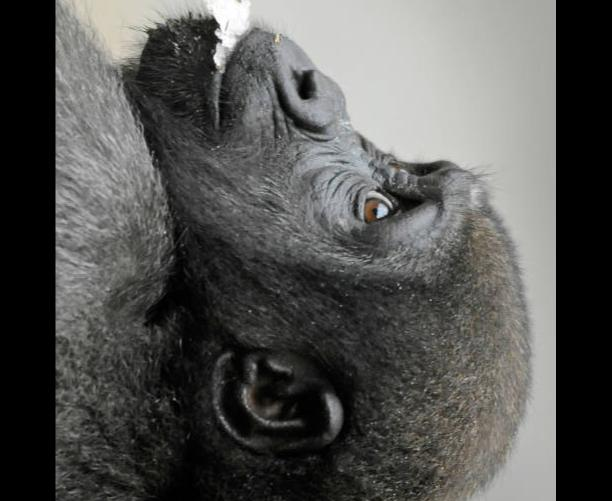gorille_Autres: (55, 0, 556, 501)
